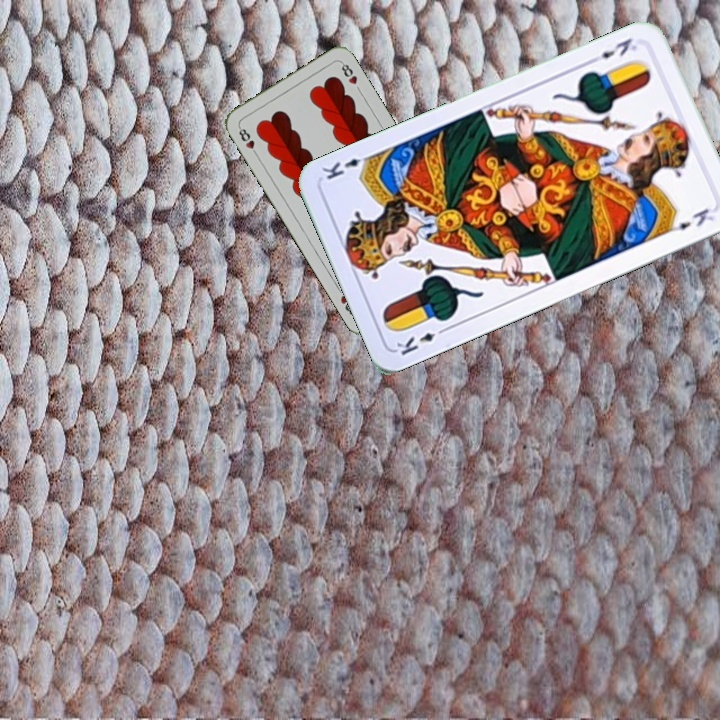EK: (392, 323, 450, 359), (585, 33, 640, 66)
H8: (234, 122, 261, 159)
